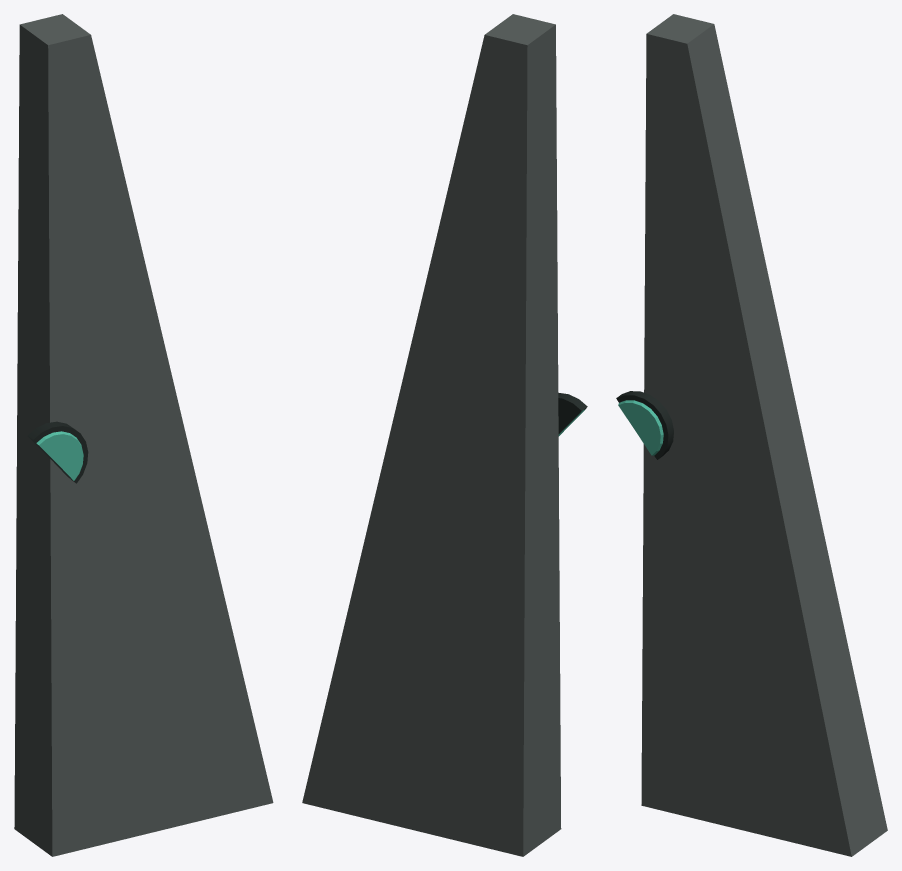
File: SmallDoorCrop_R.fbx
3 renders of one model, left to right at view 1: azimuth 30°, elevation 25°; view 2: azimuth 150°, elevation 25°; view 3: azimuth 330°, elevation 25°, orthographic. The views are drawn at different scales.
Parts seen in each view (by area): view 1: polySurface12; view 2: polySurface12; view 3: polySurface12.
Boxes of the visible parts, x1=… form: polySurface12: x1=14, y1=14, x2=273, y2=856; polySurface12: x1=302, y1=14, x2=587, y2=856; polySurface12: x1=616, y1=14, x2=887, y2=856.
Bounding box in the file's own units: 6.39 × 20.21 × 1.97.
Materials: 1 (1 with a texture image).
